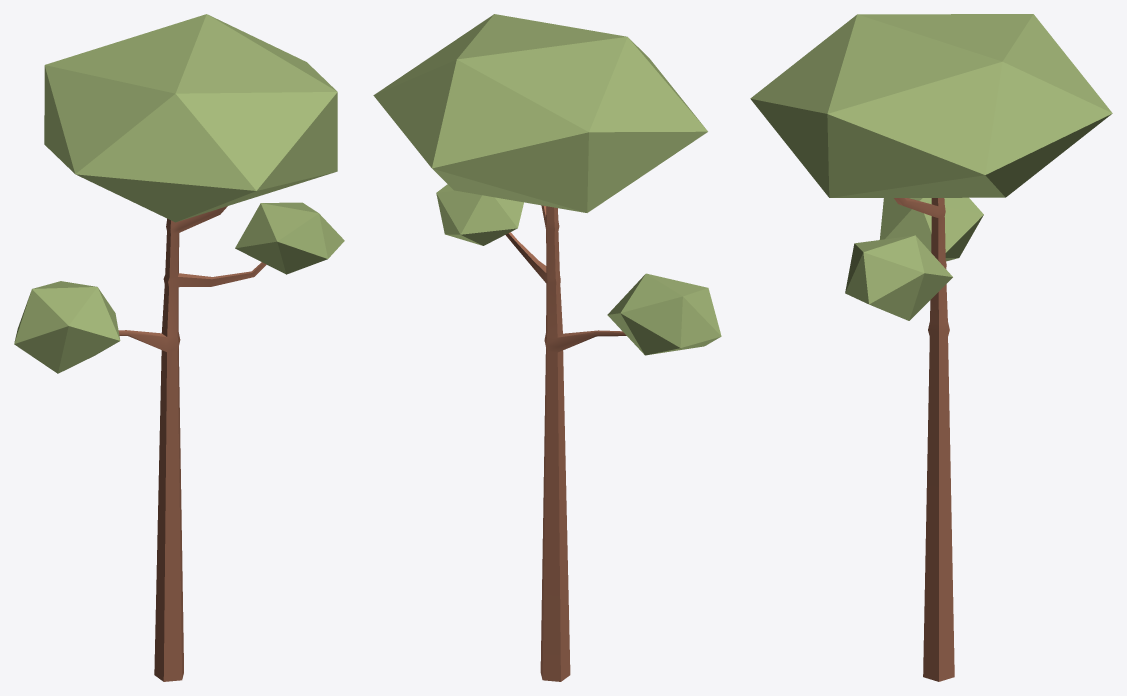
Rendered from birch.obj.
3 renders of one model, left to right at view 1: azimuth 30°, elevation 25°; view 2: azimuth 150°, elevation 25°; view 3: azimuth 270°, elevation 25°, orthographic. The views are drawn at different scales.
Visible parts, largest first — view 1: birch pasted__pPlatonic1, pasted__pCylinder1 birch, birch pasted__pPlatonic2, birch pasted__pPlatonic3; view 2: birch pasted__pPlatonic1, pasted__pCylinder1 birch, birch pasted__pPlatonic2, birch pasted__pPlatonic3; view 3: birch pasted__pPlatonic1, pasted__pCylinder1 birch, birch pasted__pPlatonic3, birch pasted__pPlatonic2.
Boxes of the visible parts, x1,y1,x2,y2 form: birch pasted__pPlatonic1: (44,14,337,222); pasted__pCylinder1 birch: (118,206,266,681); birch pasted__pPlatonic2: (14,281,120,373); birch pasted__pPlatonic3: (235,202,344,274); birch pasted__pPlatonic1: (373,14,707,212); pasted__pCylinder1 birch: (505,205,626,681); birch pasted__pPlatonic2: (607,273,721,355); birch pasted__pPlatonic3: (436,184,523,245); birch pasted__pPlatonic1: (750,14,1112,197); pasted__pCylinder1 birch: (894,198,954,681); birch pasted__pPlatonic3: (845,235,952,320); birch pasted__pPlatonic2: (879,197,983,261).
Bounding box in the file's own units: 7.49 × 13.9 × 7.06.
